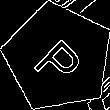P_NE: (27, 27, 89, 88)
